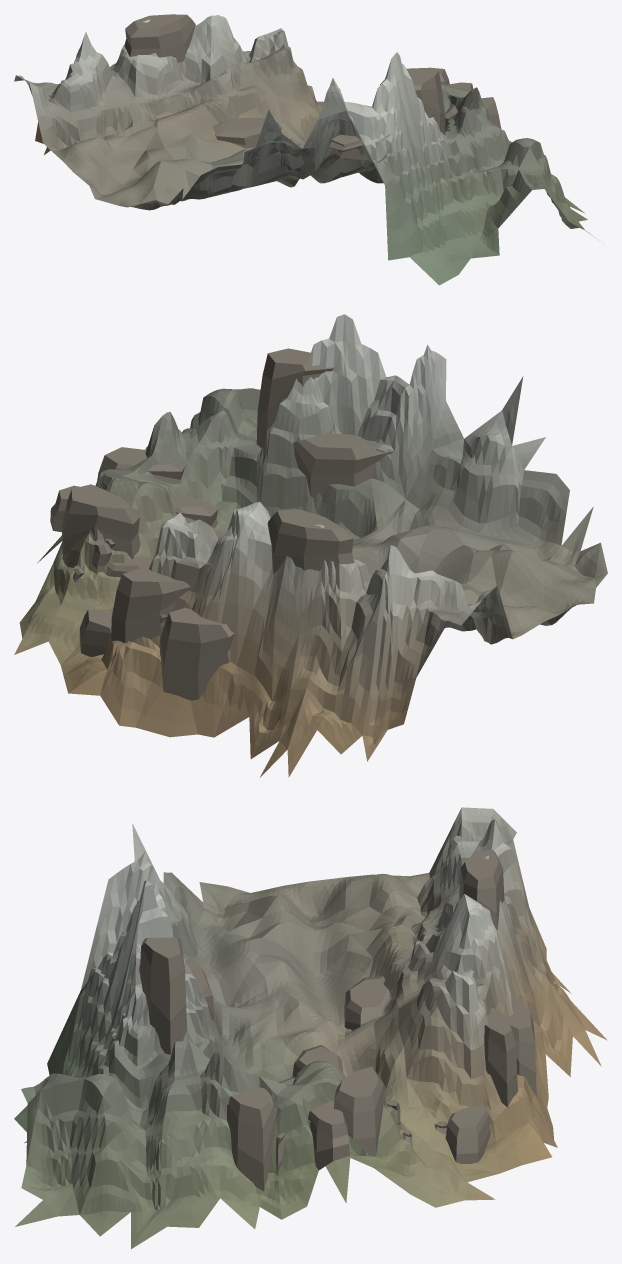
Rendered from changan-layered-foothill.glb.
3 renders of one model, top to bottom at view 1: azimuth 30°, elevation 25°; view 2: azimuth 150°, elevation 25°; view 3: azimuth 270°, elevation 25°, orthographic. The views are drawn at different scales.
Parts seen in each view (by area): view 1: Changan Layered Near Mountain; view 2: Changan Layered Near Mountain; view 3: Changan Layered Near Mountain.
Part boxes in pixels (<box>): Changan Layered Near Mountain: <box>14,14,593,285</box>; Changan Layered Near Mountain: <box>14,314,607,777</box>; Changan Layered Near Mountain: <box>14,807,607,1249</box>.
Size of the model in its own units: 14.43 by 6.58 by 13.56.
